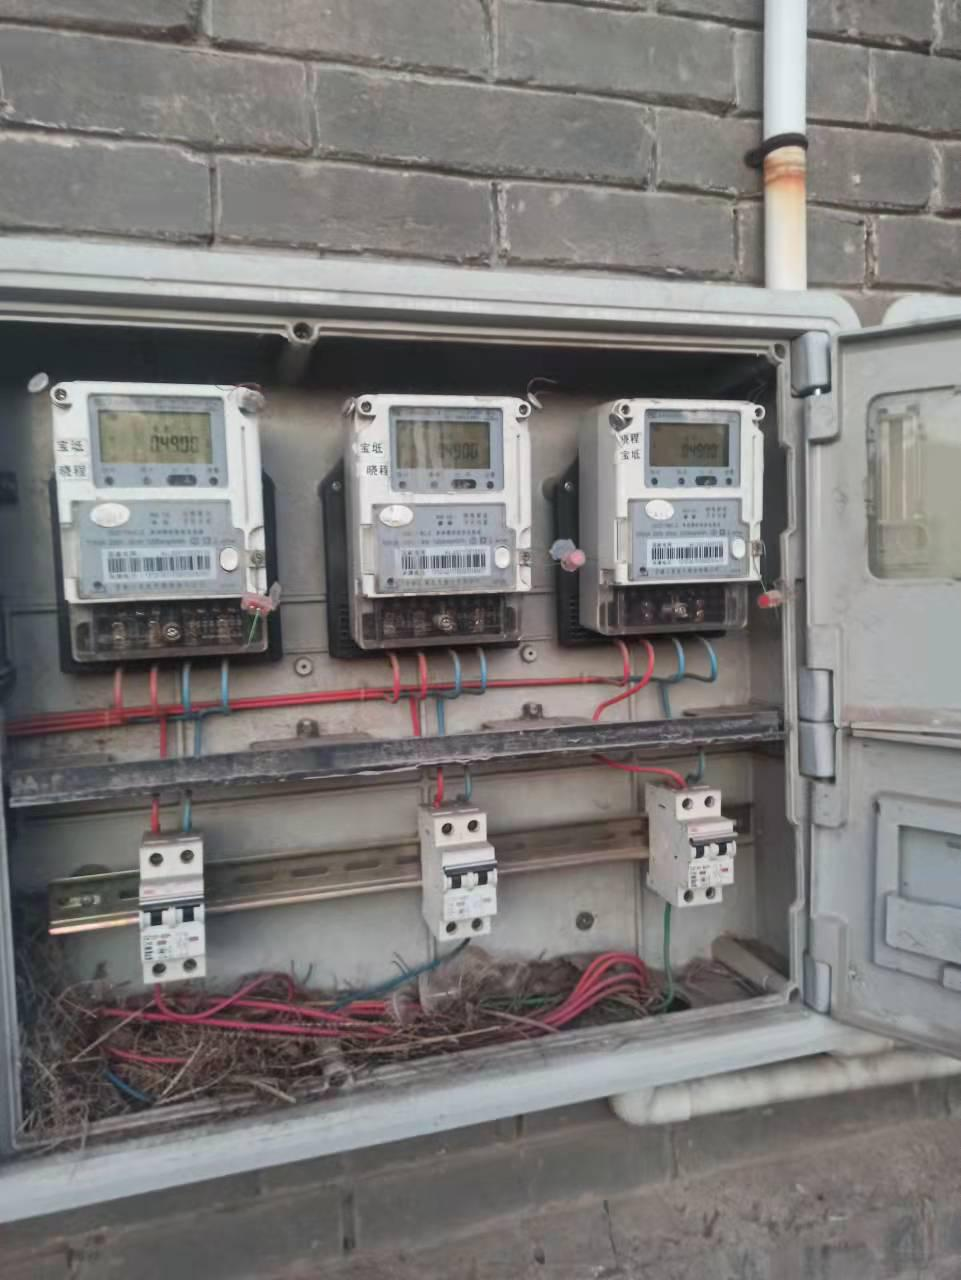digital: (49, 382, 264, 602), (357, 398, 531, 598), (612, 398, 759, 583)
